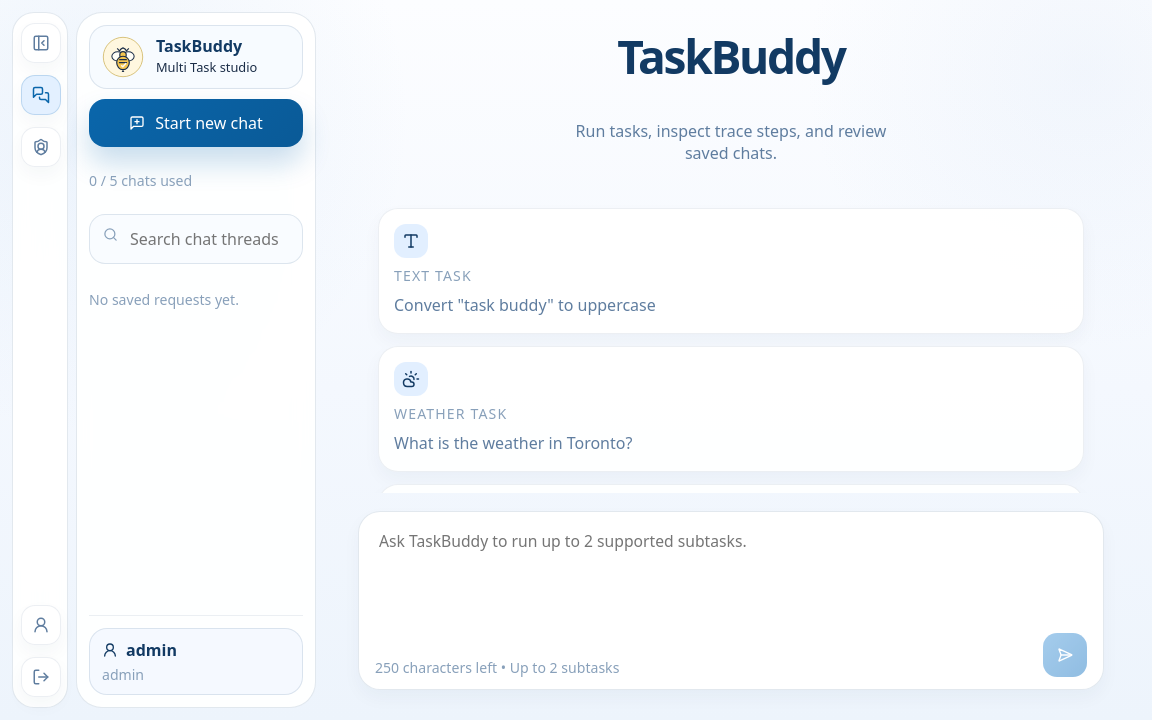
Test: App › collapses and expands the history panel from the rail
The image size is (1152, 720).
Check: the field with placeholder "Search chat threads" is shown, box [89, 214, 303, 264]
What coordinates should you click on to do the following:
click the button named "Collapse history panel"
I would click on:
 (41, 43)
Its box is [21, 23, 61, 63].
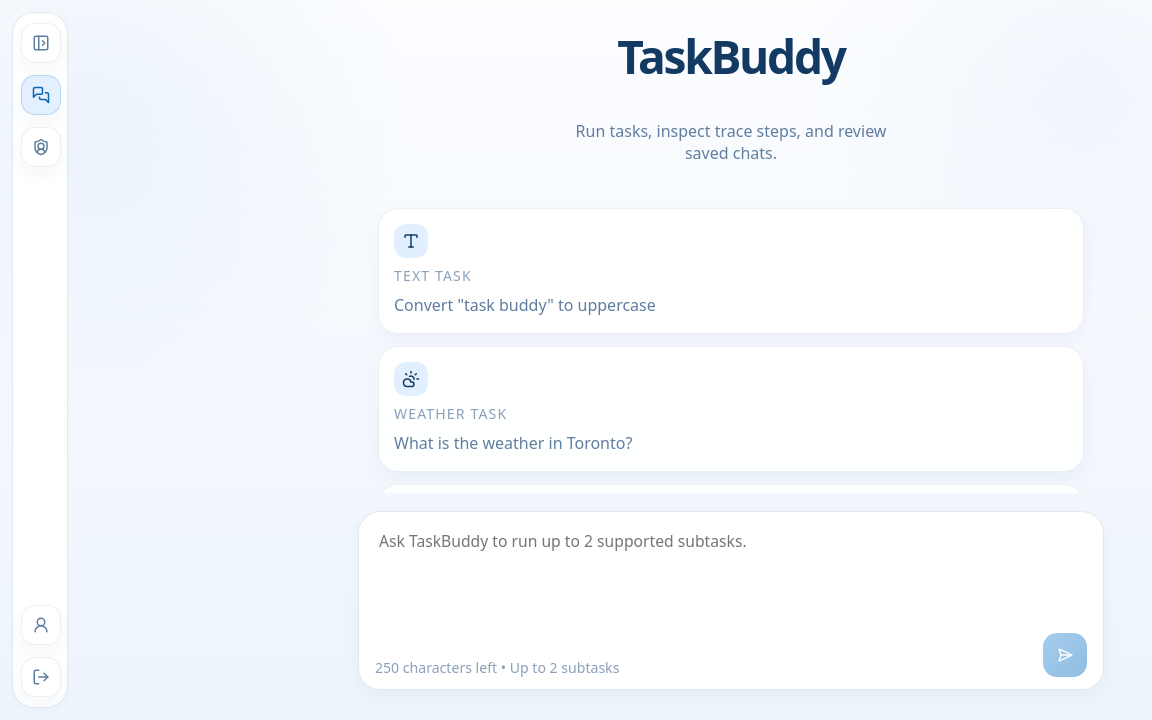
Check: the field with placeholder "Search chat threads" is not shown
Check: the button named "Expand history panel" is shown
What coordinates should you click on to do the following:
click the button named "Expand history panel"
I would click on:
 (41, 43)
Its box is [21, 23, 61, 63].
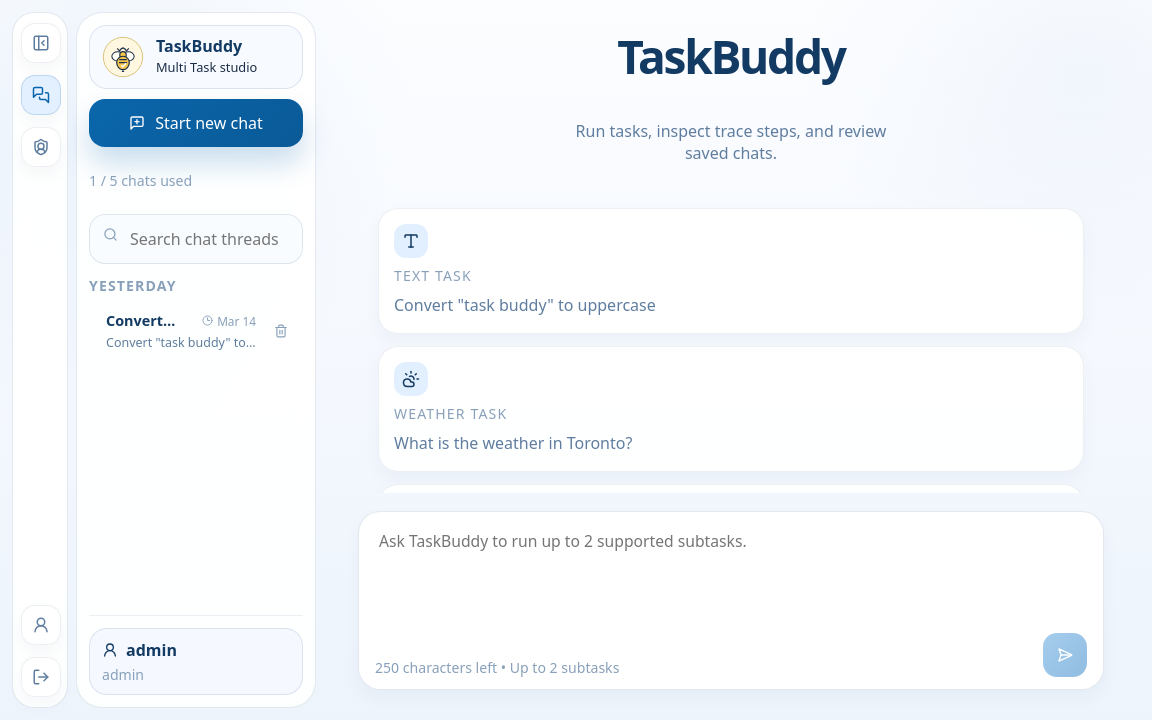
Check: the field with placeholder "Search chat threads" is shown, box [89, 214, 303, 264]
